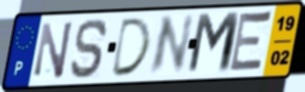D: (108, 16, 153, 79)
E: (227, 9, 275, 75)
M: (185, 10, 243, 77)
N: (146, 13, 196, 78), (32, 19, 76, 81)
S: (68, 17, 110, 80)
